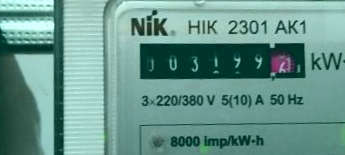0: (142, 52, 155, 73), (165, 51, 178, 71)
1: (209, 49, 220, 68)
3: (187, 53, 199, 72)
6: (276, 58, 287, 74)
9: (230, 49, 242, 69), (251, 50, 263, 69)
screen: (130, 31, 314, 93)
